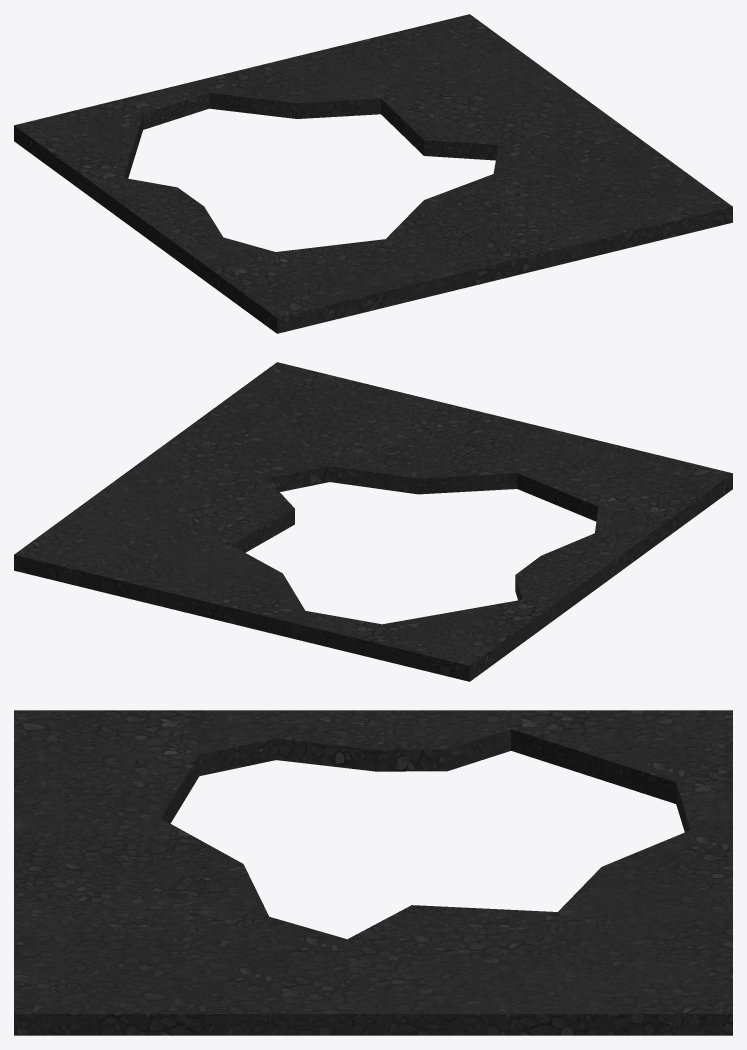
Rendered from roof_flat_destroyed03.fbx.
The picture shows the model from 3 angles, top to bottom: view 1: azimuth 30°, elevation 25°; view 2: azimuth 150°, elevation 25°; view 3: azimuth 270°, elevation 25°; orthographic projection. The views are drawn at different scales.
Visible parts, largest first — view 1: roof_flat_destroyed03; view 2: roof_flat_destroyed03; view 3: roof_flat_destroyed03.
Boxes of the visible parts, x1=… form: roof_flat_destroyed03: x1=14, y1=14, x2=732, y2=333; roof_flat_destroyed03: x1=14, y1=362, x2=732, y2=681; roof_flat_destroyed03: x1=14, y1=710, x2=732, y2=1035.
Bounding box in the file's own units: 300 × 10 × 300.
